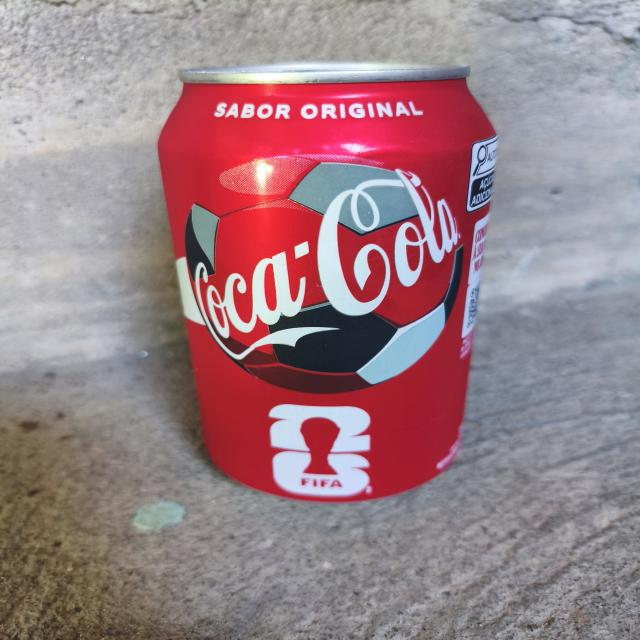Coca Cola: (140, 46, 528, 506)
